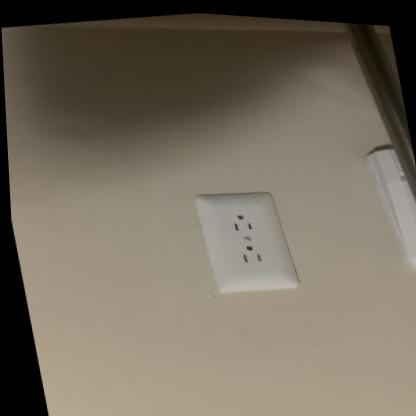OUTLET: (192, 182, 297, 300)
